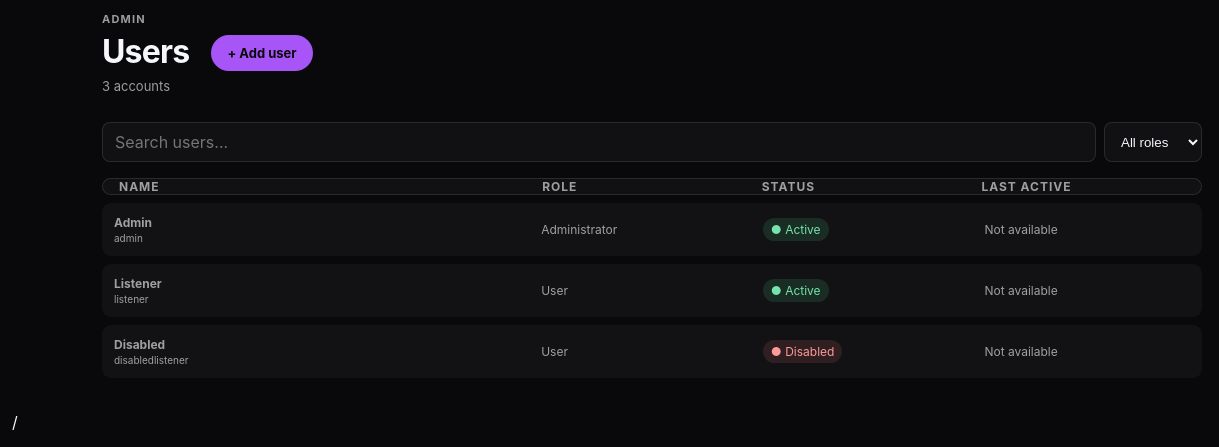
Test case: Users page › filters users by role
Expected: the text "listener" is shown, [114,293,149,305]
Select "Admins" in the dropdown named "filter users". click: (1153, 142)
box: [1104,122,1202,162]
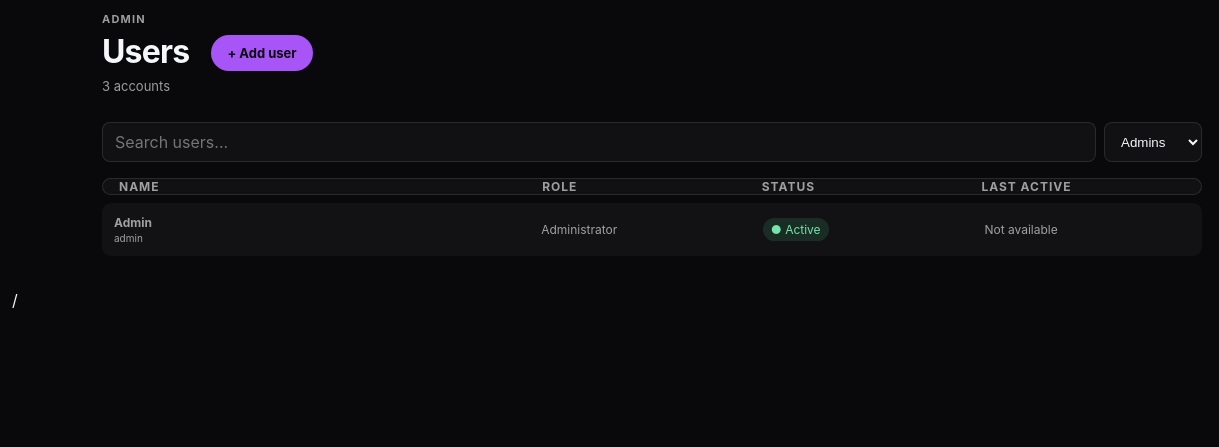
Expected: the text "Listener" is gone
Expected: the text "disabledlistener" is gone
